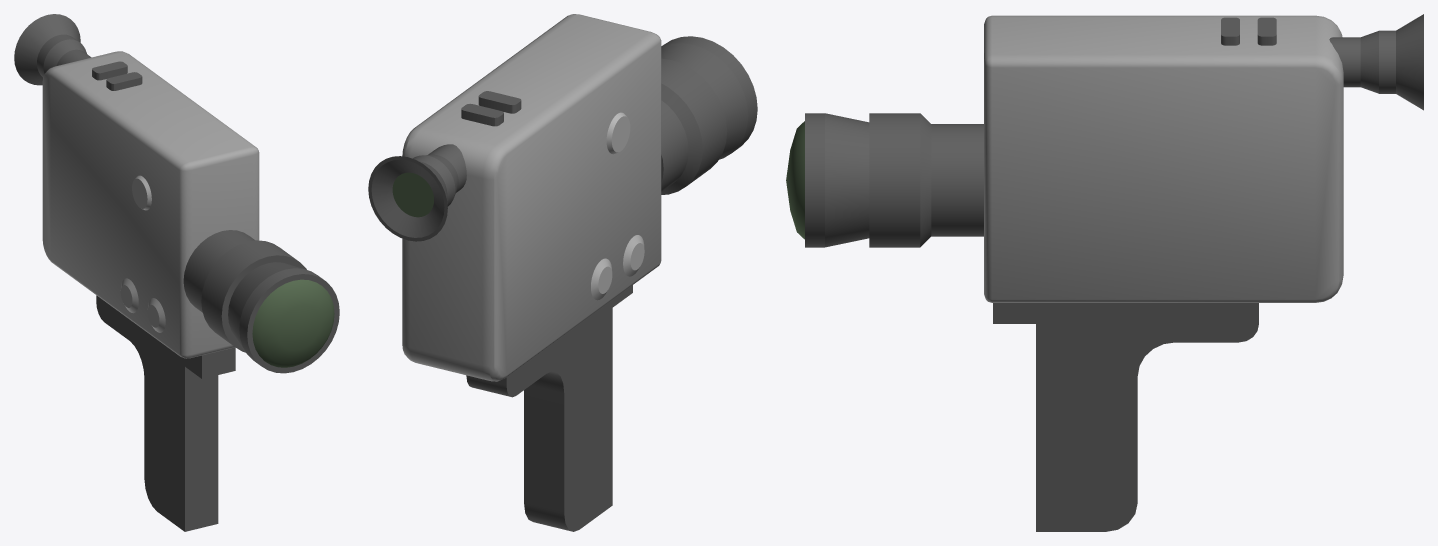
Rendered from Hand camera prop II.fbx.
3 views of the same model, side by side, from view 1: azimuth 30°, elevation 25°; view 2: azimuth 150°, elevation 25°; view 3: azimuth 270°, elevation 25° (orthographic). The views are drawn at different scales.
Visible parts, largest first — view 1: Cylinder.004; view 2: Cylinder.004; view 3: Cylinder.004.
Part boxes in pixels (x1=…): Cylinder.004: x1=14, y1=14, x2=339, y2=531; Cylinder.004: x1=368, y1=14, x2=757, y2=531; Cylinder.004: x1=786, y1=14, x2=1423, y2=531.
Size of the model in its own units: 22.12 by 91.33 by 105.
